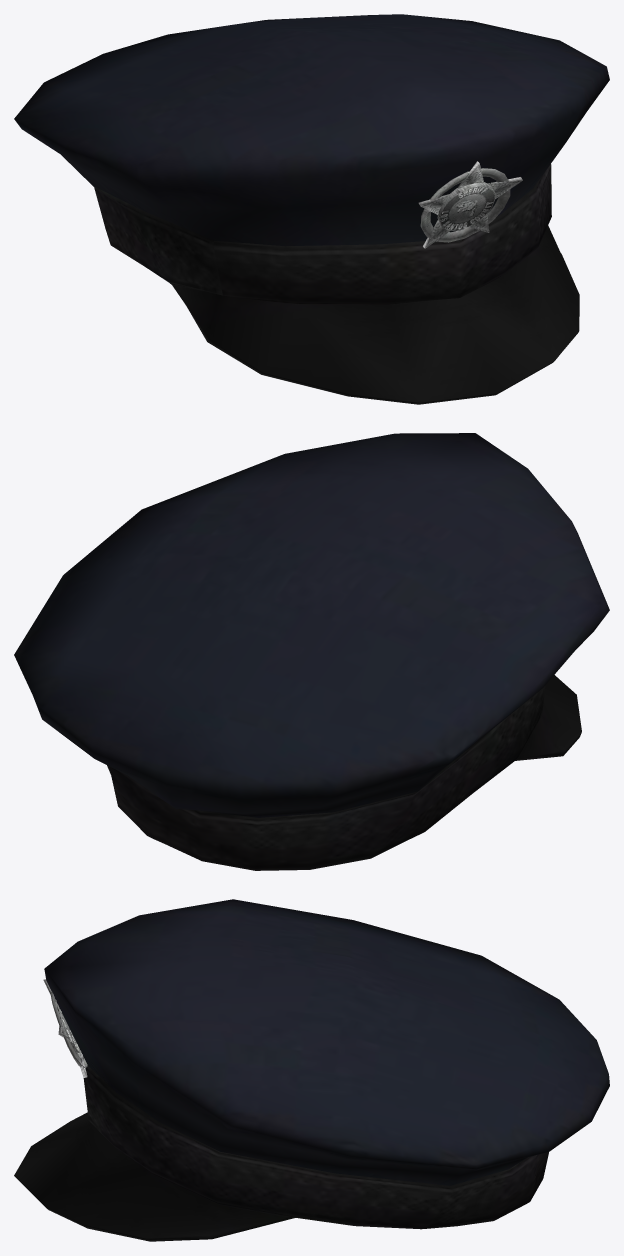
The model's file is hat_badge_cap.glb.
The picture shows the model from 3 angles, top to bottom: view 1: azimuth 30°, elevation 25°; view 2: azimuth 150°, elevation 25°; view 3: azimuth 270°, elevation 25°; orthographic projection. The views are drawn at different scales.
Parts seen in each view (by area): view 1: Object_7; view 2: Object_7; view 3: Object_7.
Boxes of the visible parts, box(x1,y1,x2,y2) form: Object_7: box(14, 14, 609, 404); Object_7: box(14, 433, 609, 870); Object_7: box(14, 899, 609, 1241).
Bounding box in the file's own units: 1.23 × 0.5974 × 1.44.
Materials: 1 (1 with a texture image).
